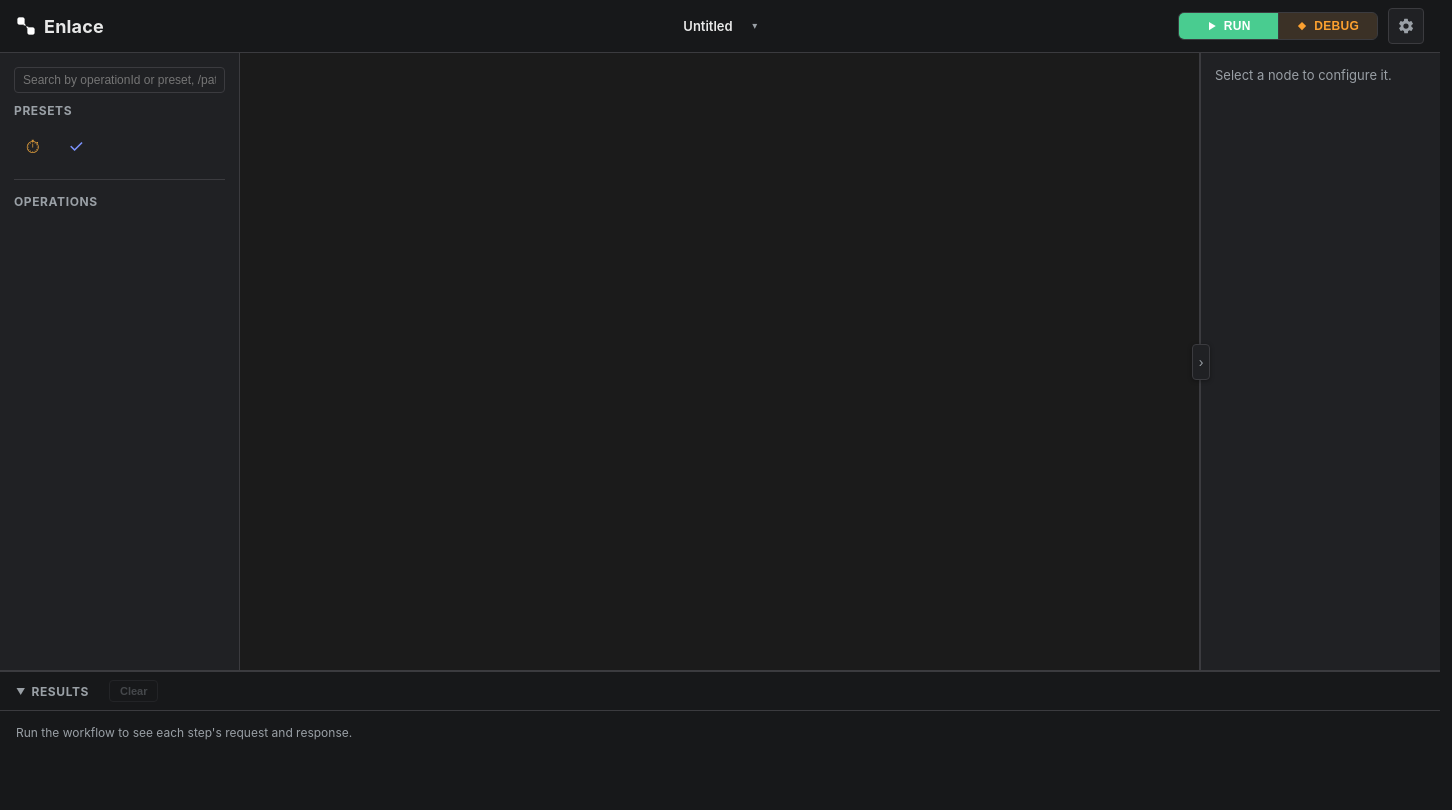
Test case: App › collapses the node config to a strip and can reopen it
The width and height of the screenshot is (1452, 810).
Expected: the text "Select a node to configure it." is shown, [1215,67,1392,83]
Click the button named "Hide node config".
click(1201, 362)  # box [1192,344,1210,380]
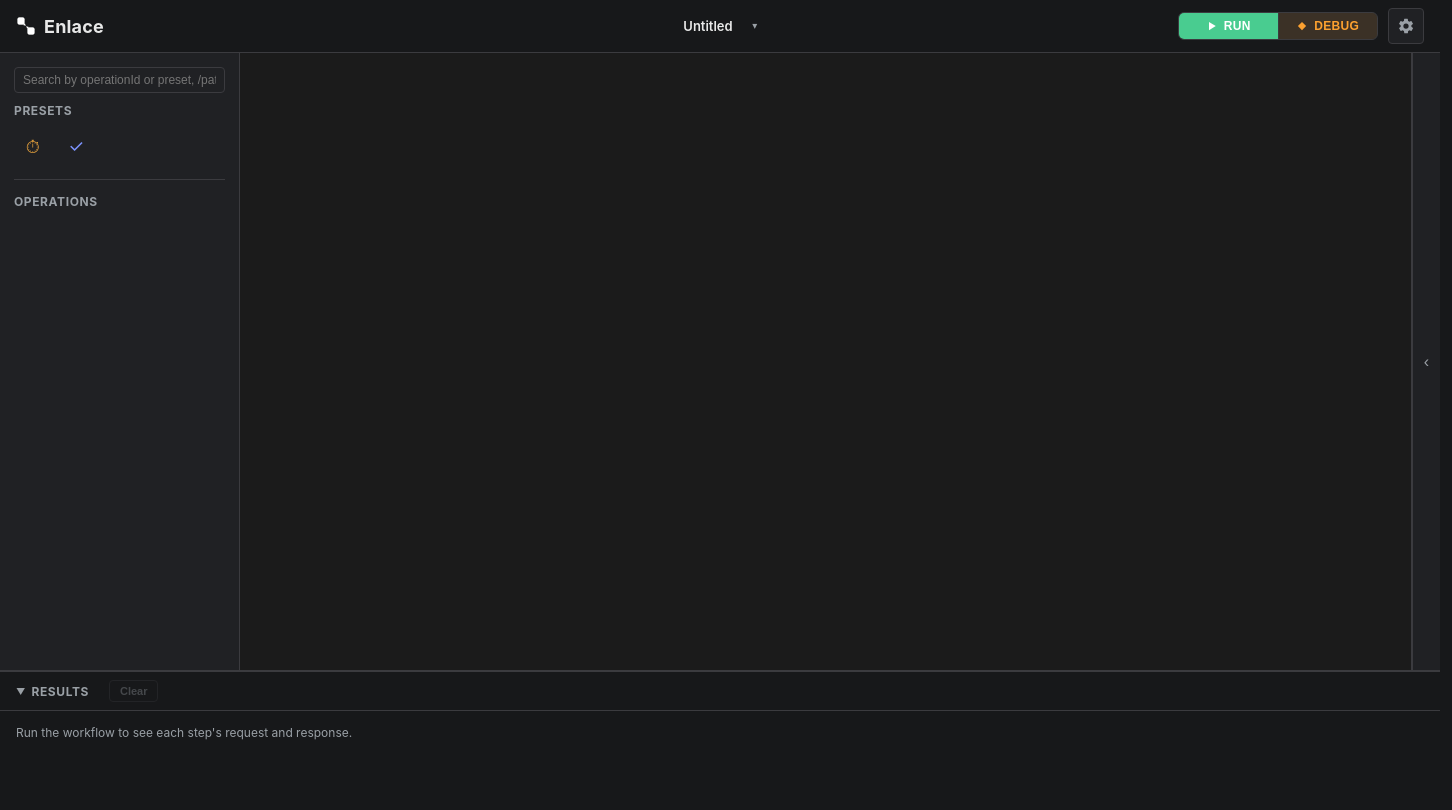
Result: the text "Select a node to configure it." is gone
Result: the button named "Show node config" is shown
Click the button named "Show node config".
click(1426, 362)  # box [1412,53,1440,670]
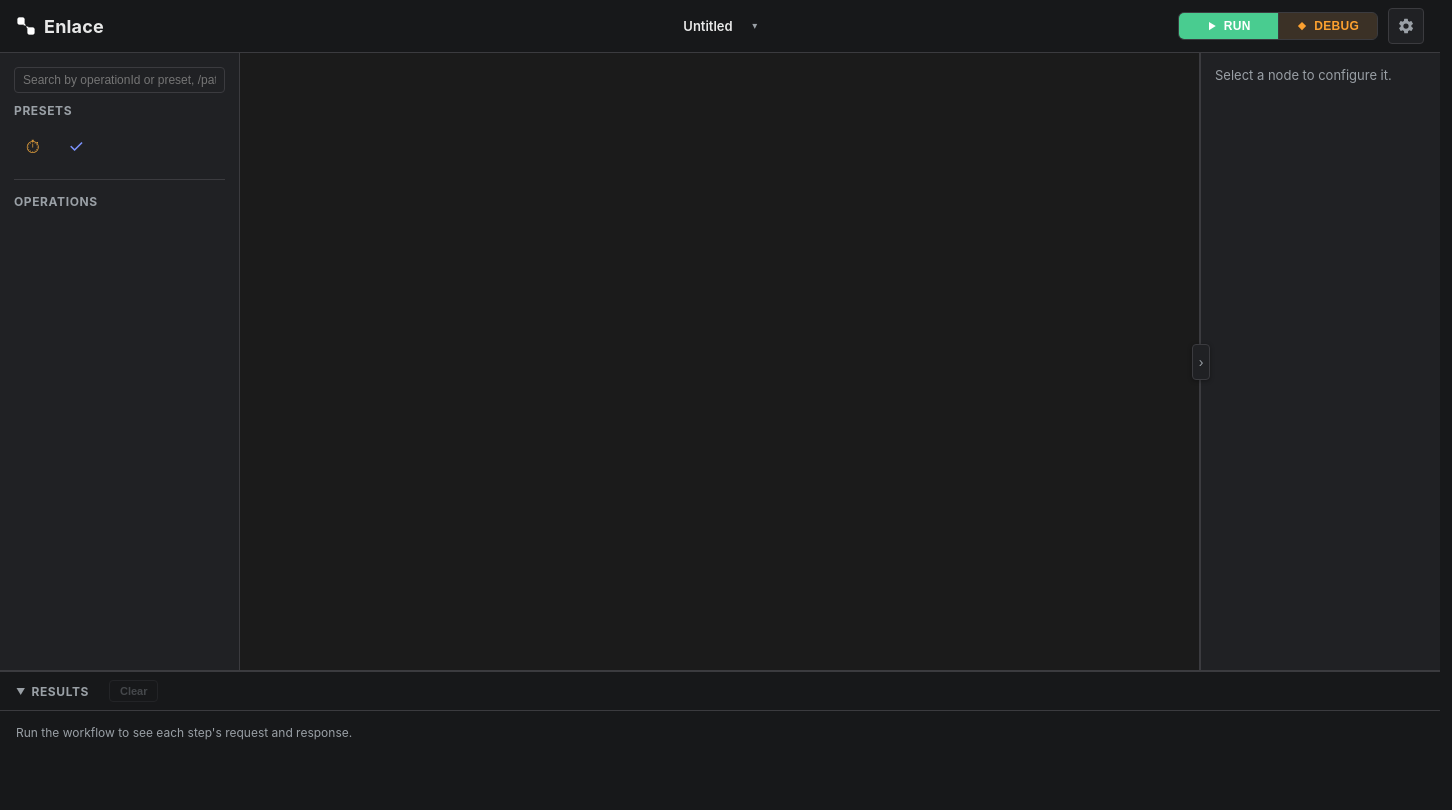
Result: the text "Select a node to configure it." is shown at [1215,67,1392,83]
